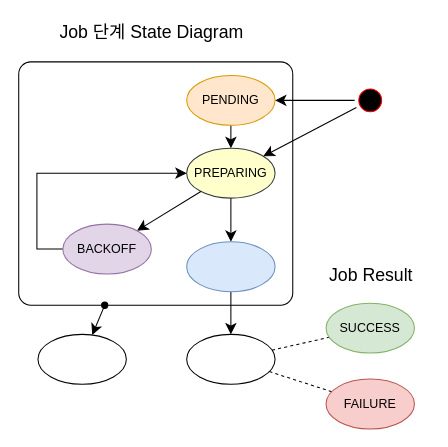
Some shapes in this 448 by 447 pixel diagram are drawn without their labels. Each missing label, with the box of its shape:
COMPLETED: (186, 333, 275, 384)
FORCE_DELETED: (37, 333, 126, 384)
RUNNING: (186, 241, 275, 292)
